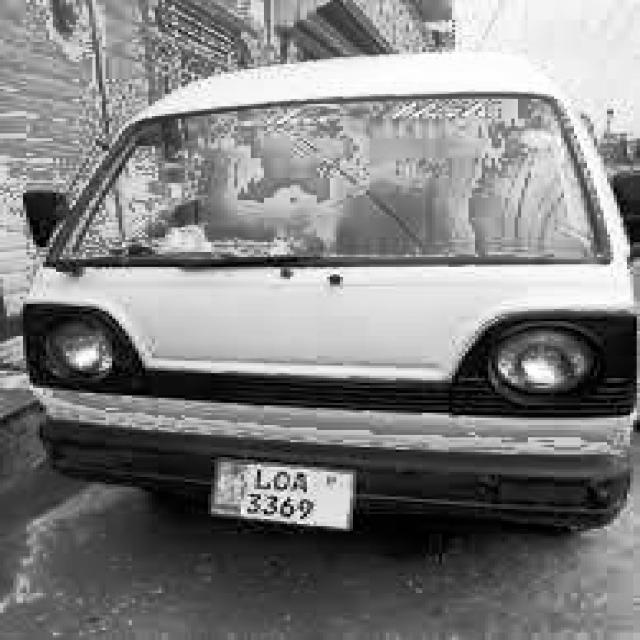LCV: (20, 52, 640, 548)
